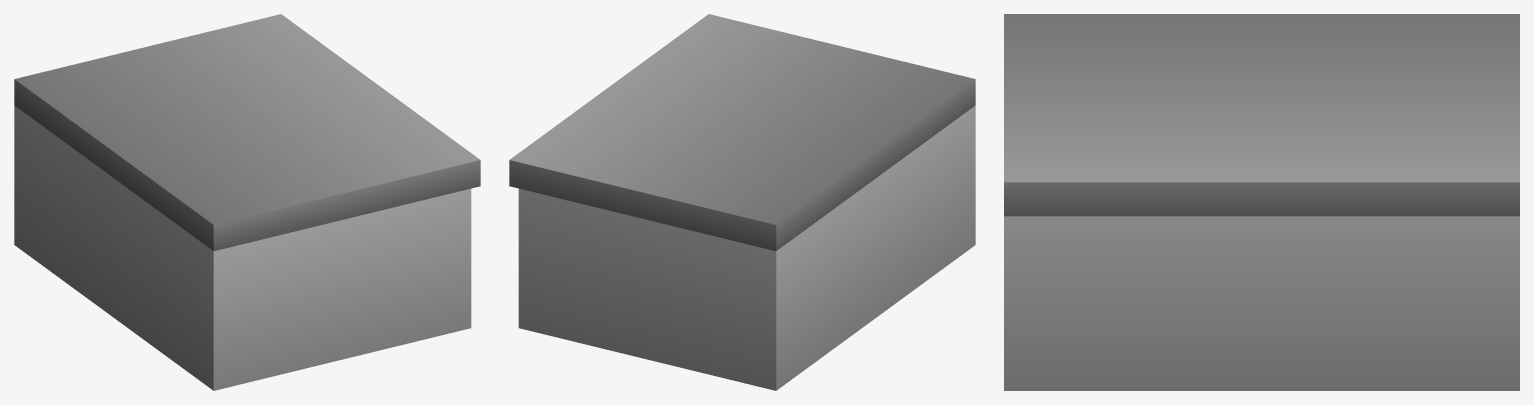
The model's file is DoubleCooked_Furniture.fbx.
The picture shows the model from 3 angles, left to right: view 1: azimuth 30°, elevation 25°; view 2: azimuth 150°, elevation 25°; view 3: azimuth 270°, elevation 25°; orthographic projection. The views are drawn at different scales.
Parts seen in each view (by area): view 1: DoubleCooked_Furniture; view 2: DoubleCooked_Furniture; view 3: DoubleCooked_Furniture.
Boxes of the visible parts, x1,y1,x2,y2 form: DoubleCooked_Furniture: [14, 14, 480, 390]; DoubleCooked_Furniture: [509, 14, 975, 390]; DoubleCooked_Furniture: [1004, 14, 1519, 390].
Size of the model in its own units: 77.25 by 45.9 by 100.
Materials: 1 (1 with a texture image).
